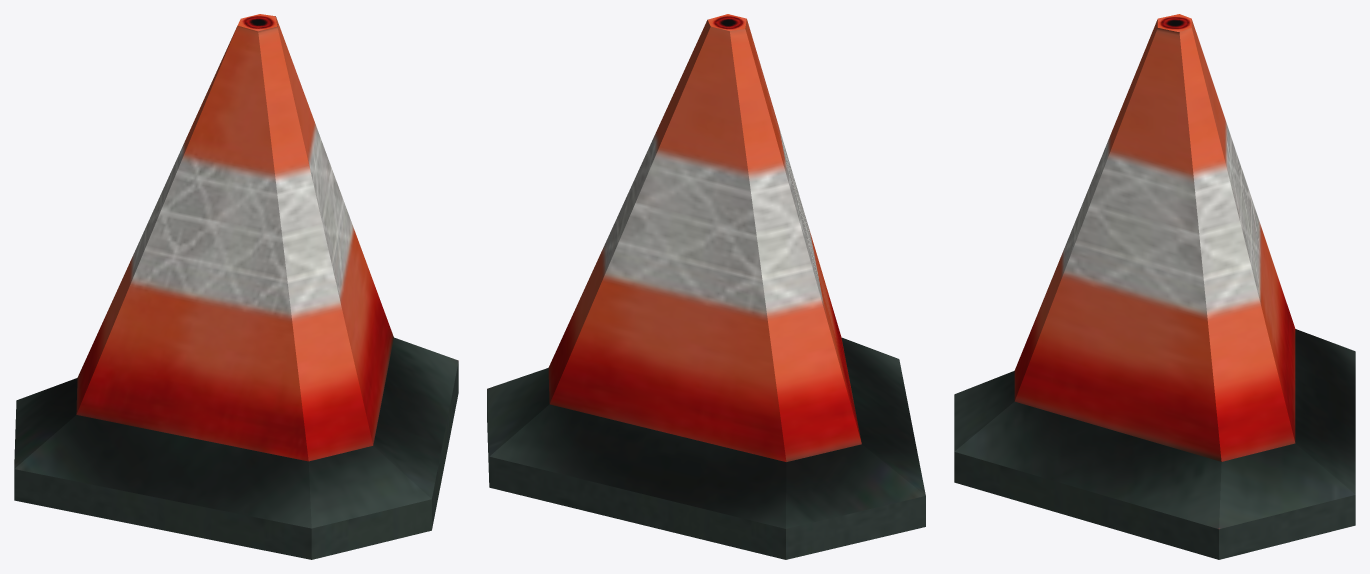
File: trafficcone.fbx
3 renders of one model, left to right at view 1: azimuth 30°, elevation 25°; view 2: azimuth 150°, elevation 25°; view 3: azimuth 270°, elevation 25°, orthographic. The views are drawn at different scales.
Visible parts, largest first — view 1: cone; view 2: cone; view 3: cone.
Boxes of the visible parts, x1=… form: cone: x1=14, y1=14, x2=458, y2=559; cone: x1=487, y1=14, x2=925, y2=559; cone: x1=954, y1=14, x2=1355, y2=559.
Size of the model in its own units: 74 by 70 by 59.12.
Materials: 1 (1 with a texture image).
